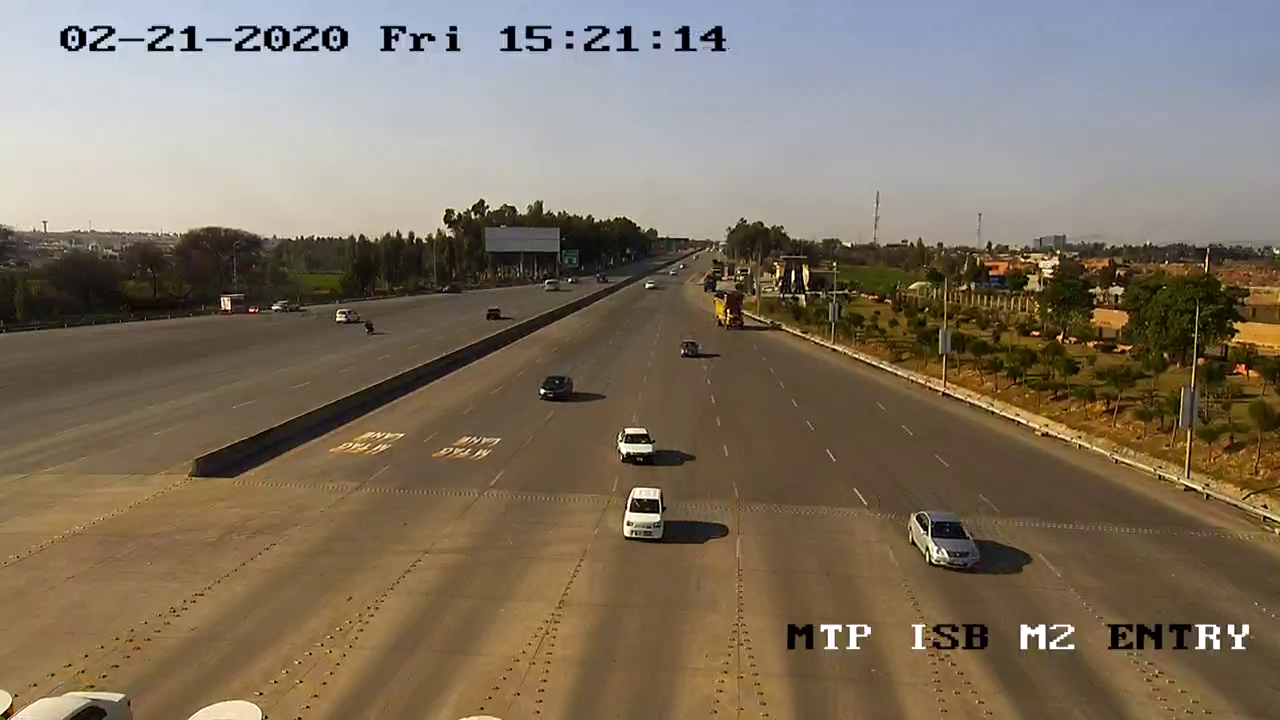f1: (903, 499, 986, 580), (614, 482, 675, 546), (611, 421, 668, 474), (529, 369, 579, 412)
